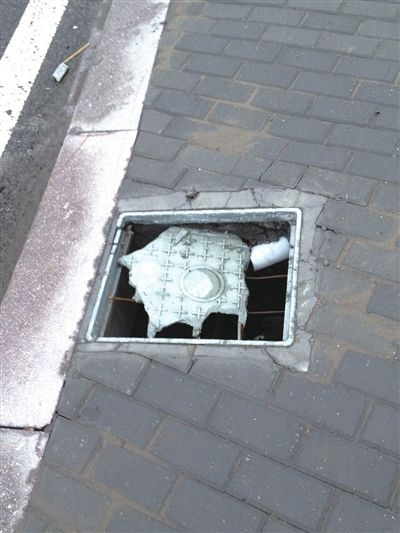broke: (81, 208, 301, 351)
